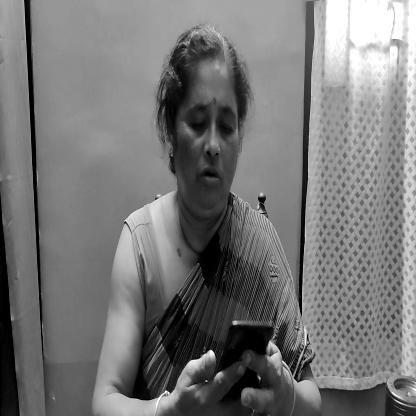Normal: (160, 33, 250, 224)
